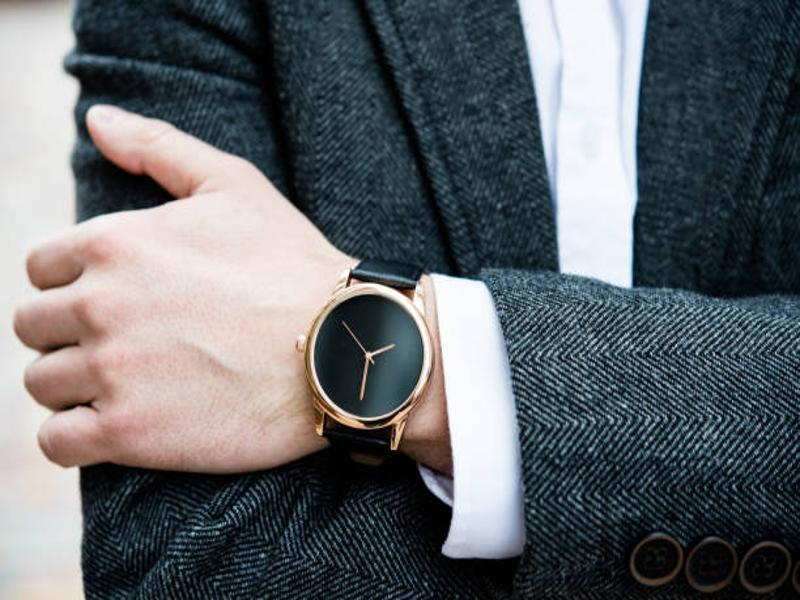watch: (296, 260, 435, 448)
